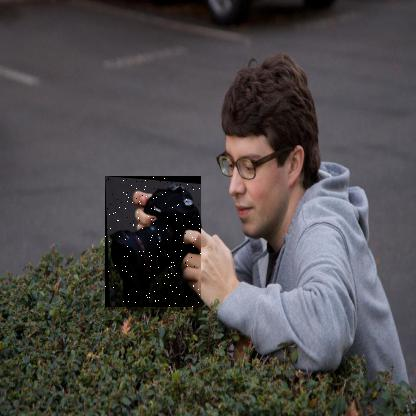Camera: (106, 177, 203, 309)
